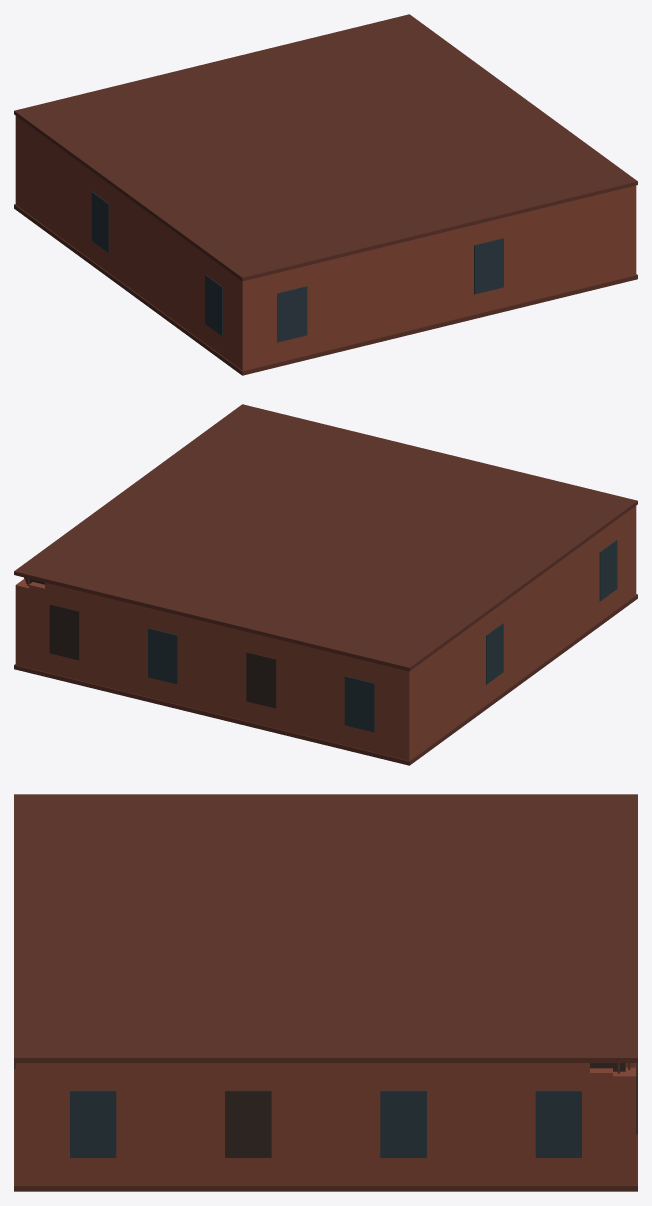
The model's file is tw_brick_16_floor_c_lod1.glb.
The picture shows the model from 3 angles, top to bottom: view 1: azimuth 30°, elevation 25°; view 2: azimuth 150°, elevation 25°; view 3: azimuth 270°, elevation 25°; orthographic projection. The views are drawn at different scales.
Visible parts, largest first — view 1: tw_brick_16_floor_c_lod1; view 2: tw_brick_16_floor_c_lod1; view 3: tw_brick_16_floor_c_lod1.
Boxes of the visible parts, x1,y1,x2,y2 form: tw_brick_16_floor_c_lod1: (14, 14, 637, 375); tw_brick_16_floor_c_lod1: (14, 404, 637, 765); tw_brick_16_floor_c_lod1: (14, 794, 637, 1191).
Size of the model in its own units: 16.08 by 3.8 by 16.08.
Materials: 1 (1 with a texture image).
